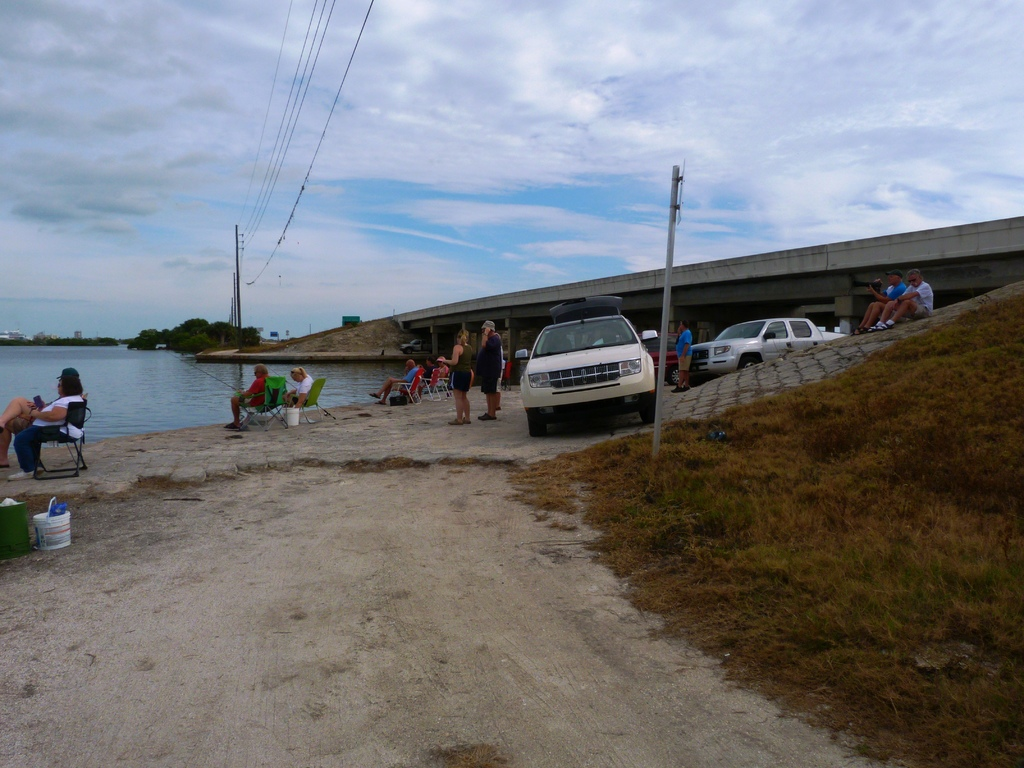Car: (513, 293, 657, 436), (650, 330, 678, 383)
